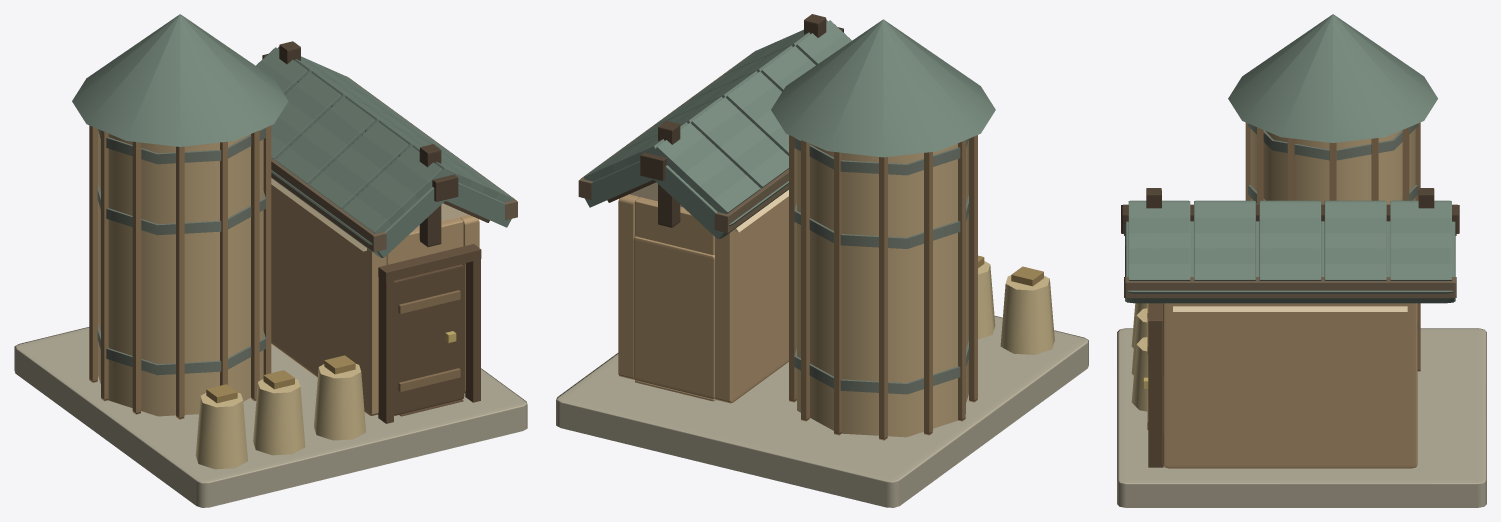
The model's file is granary-0.glb.
The picture shows the model from 3 angles, left to right: view 1: azimuth 30°, elevation 25°; view 2: azimuth 150°, elevation 25°; view 3: azimuth 270°, elevation 25°; orthographic projection. The views are drawn at different scales.
Parts seen in each view (by area): view 1: granary-0-0, door-hinge; view 2: granary-0-0; view 3: granary-0-0.
Part boxes in pixels (x1,y1,x2,y2): granary-0-0: (14,14,527,507); door-hinge: (394,264,464,415); granary-0-0: (556,14,1088,507); granary-0-0: (1117,14,1486,507).
Bounding box in the file's own units: 1.92 × 2.16 × 1.9.
